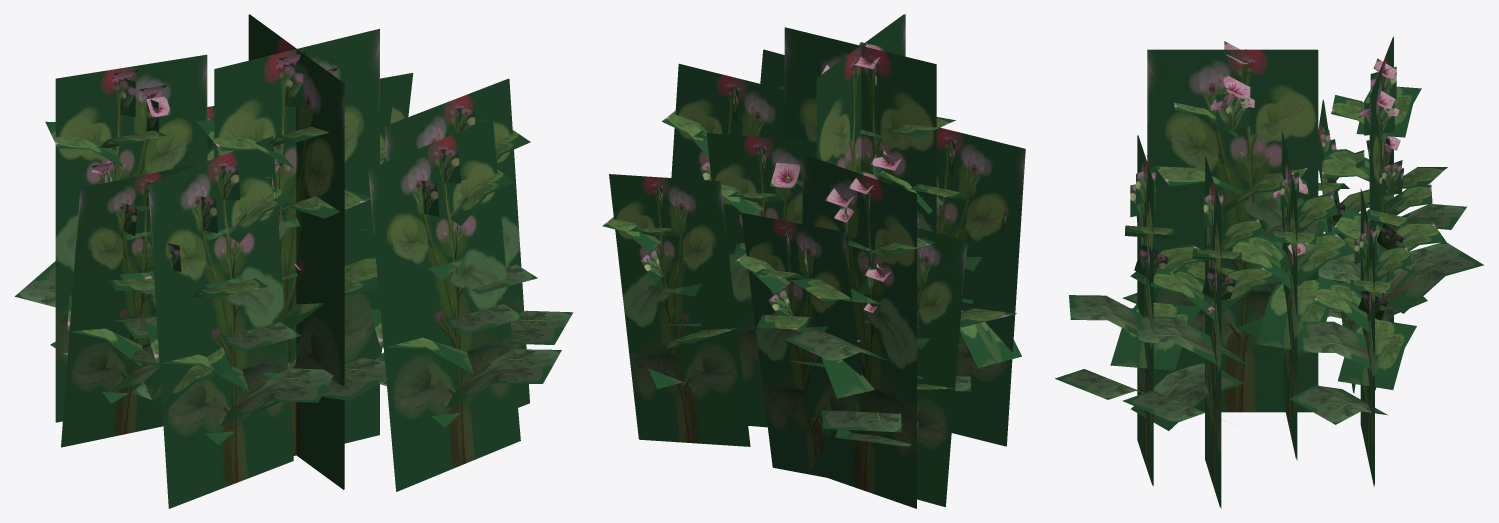
Rendered from Dingqingchuan_wujian_09.FBX.
3 renders of one model, left to right at view 1: azimuth 30°, elevation 25°; view 2: azimuth 150°, elevation 25°; view 3: azimuth 270°, elevation 25°, orthographic. The views are drawn at different scales.
Parts seen in each view (by area): view 1: Plane642; view 2: Plane642; view 3: Plane642.
Part boxes in pixels (x1,y1,x2,y2): Plane642: (15, 14, 573, 508); Plane642: (602, 14, 1025, 508); Plane642: (1055, 36, 1483, 508).
Bounding box in the file's own units: 8.42 × 8.11 × 8.54.
